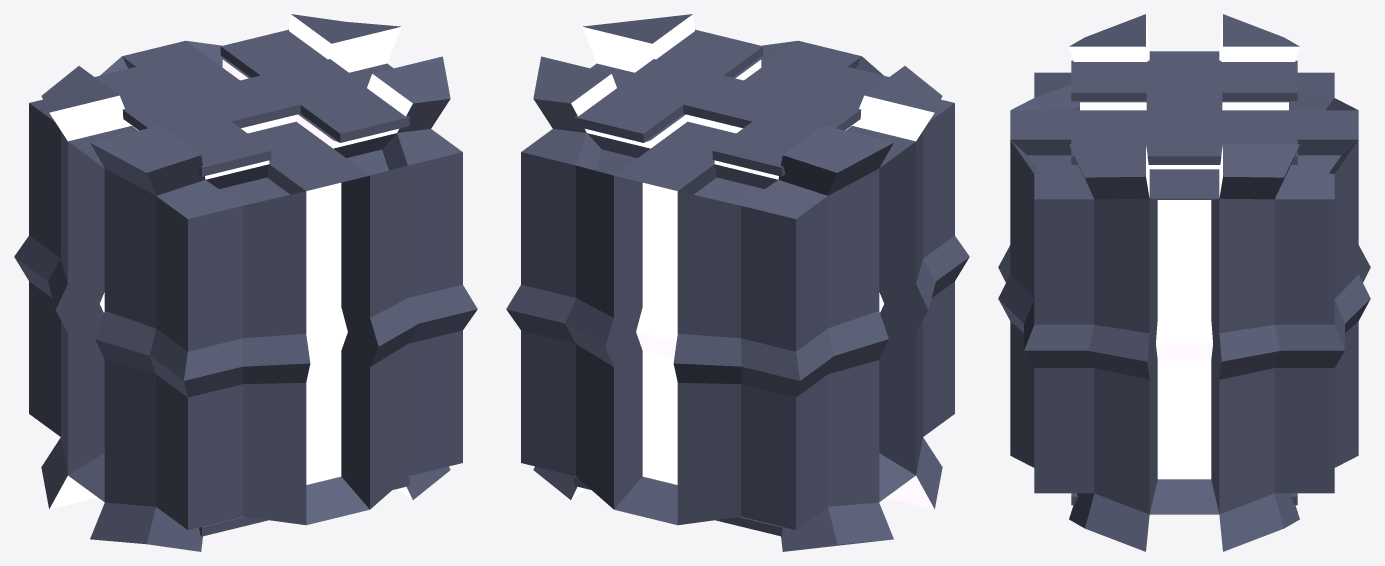
The model's file is barrel2.fbx.
3 renders of one model, left to right at view 1: azimuth 30°, elevation 25°; view 2: azimuth 150°, elevation 25°; view 3: azimuth 270°, elevation 25°, orthographic. The views are drawn at different scales.
Visible parts, largest first — view 1: Куб; view 2: Куб; view 3: Куб.
Boxes of the visible parts, x1,y1,x2,y2 form: Куб: (14,14,477,551); Куб: (506,14,969,551); Куб: (998,14,1370,551).
Bounding box in the file's own units: 221 × 238 × 214.
